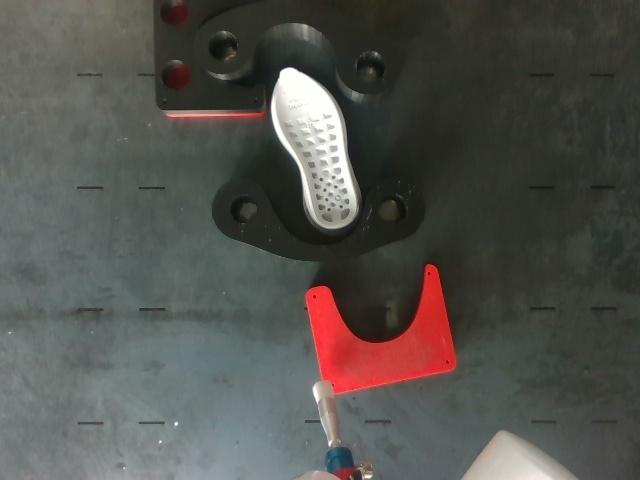shoes: (274, 68, 357, 227)
